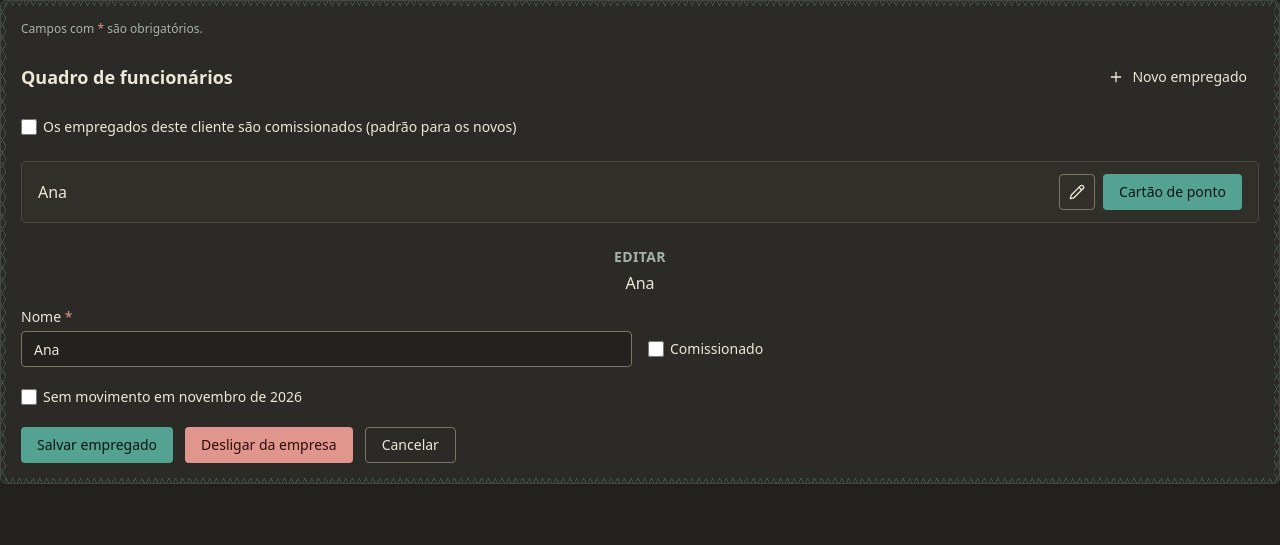
Scenario: QuadroDeFuncionariosContainer › desligar grava na hora e fecha o Editar (volta ao formulário Novo empregado)
The width and height of the screenshot is (1280, 545).
Click the button "Desligar da empresa" at (269, 445), box [185,427,353,463]
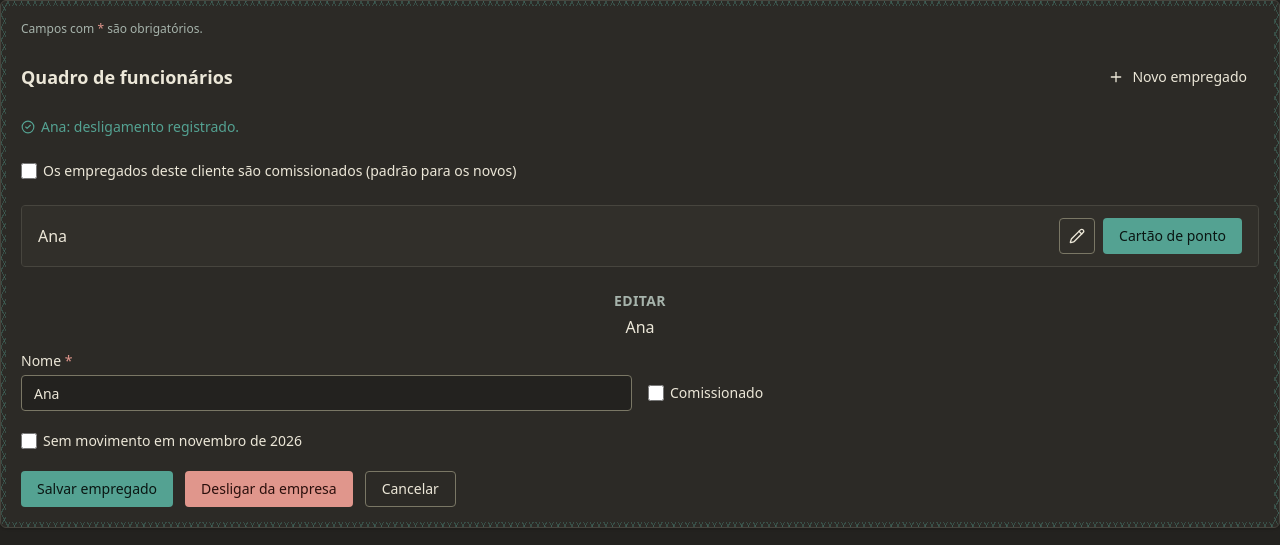
Expected: the message reads "Ana: desligamento registrado.", [41,117,239,136]
